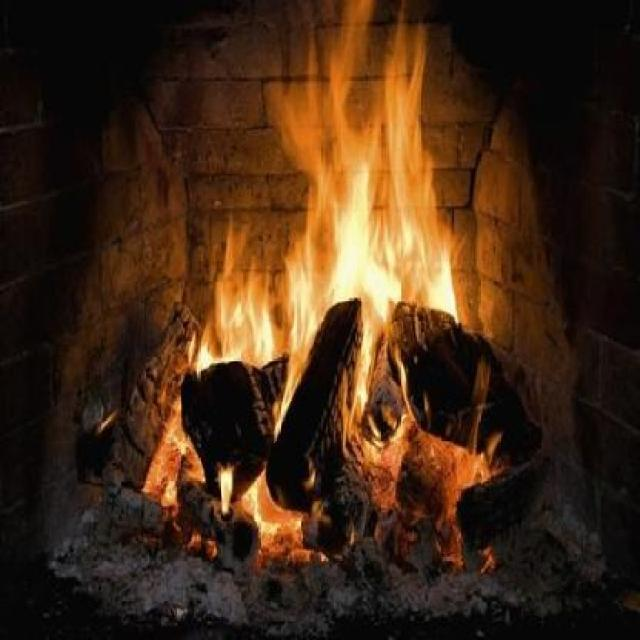Fire: (150, 11, 520, 580)
